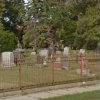Tree: (33, 2, 100, 71)
